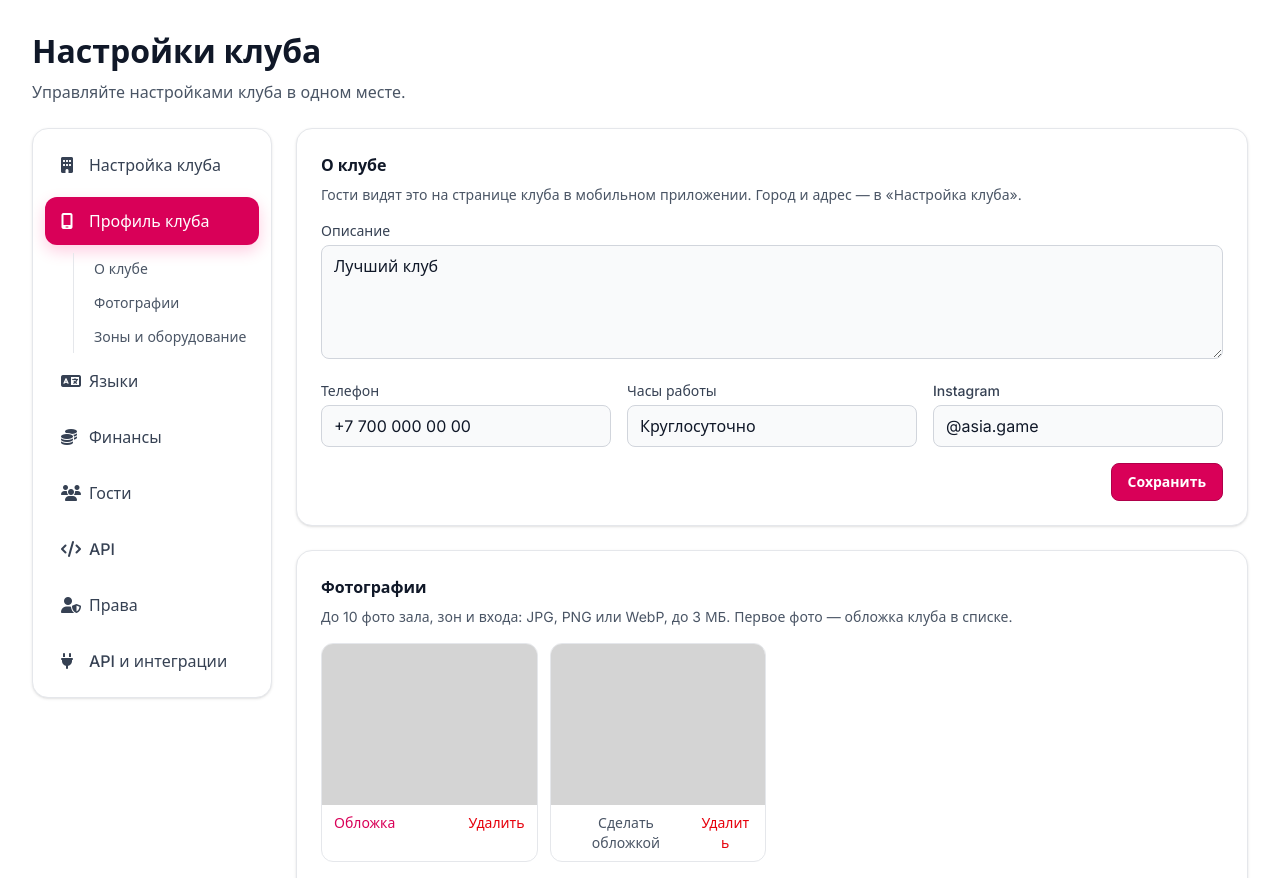
Test: Профиль клуба › о клубе: значения профиля, «@» у Instagram, сохранение формы
The width and height of the screenshot is (1280, 878).
Expected: the field with placeholder "@club" holds "@asia.game", [933, 405, 1223, 447]
Type "+7 701 111 22 33" into the field with placeholder "+7 700 000 00 00". click: (466, 426)
box: [321, 405, 611, 447]
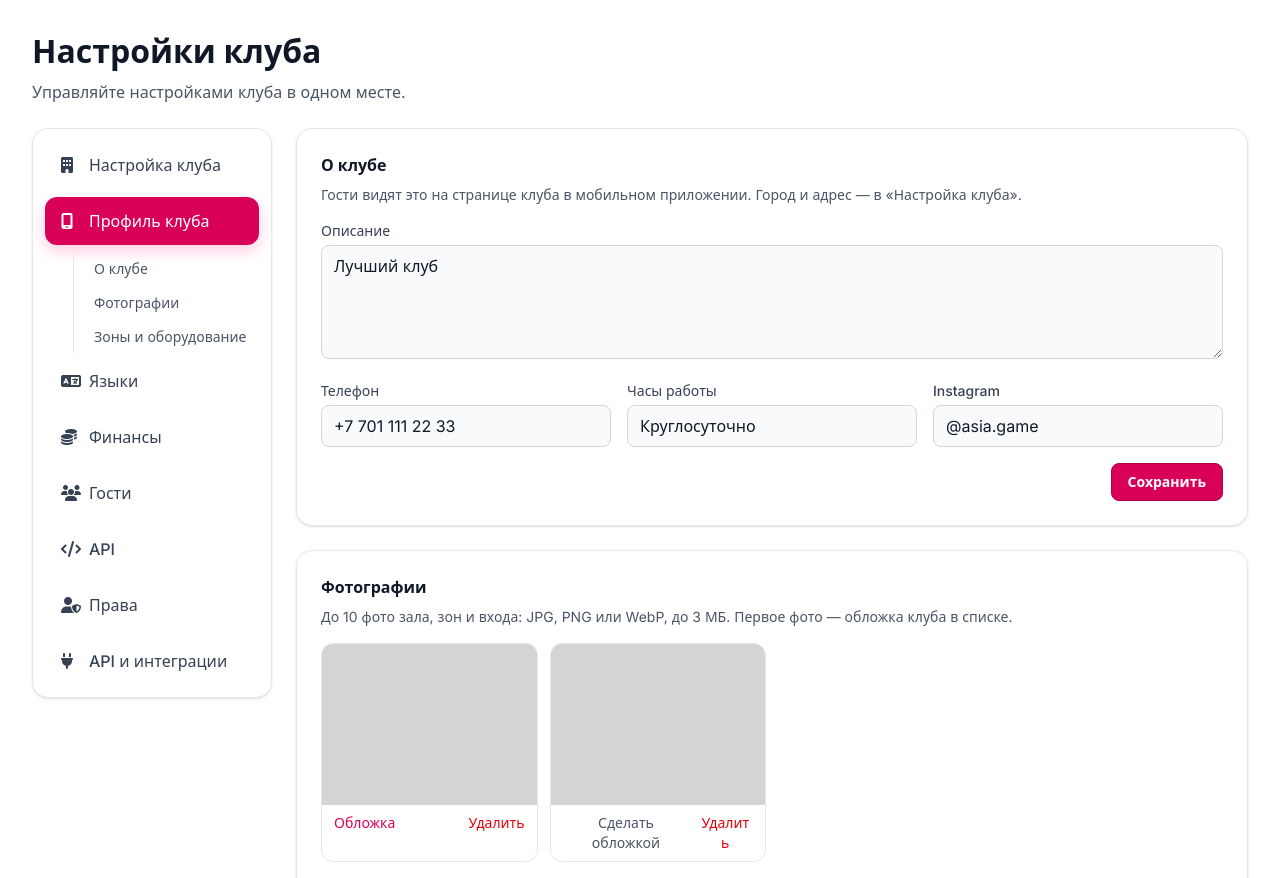
Click the button "Сохранить". click: (1167, 482)
box: [1111, 463, 1223, 501]
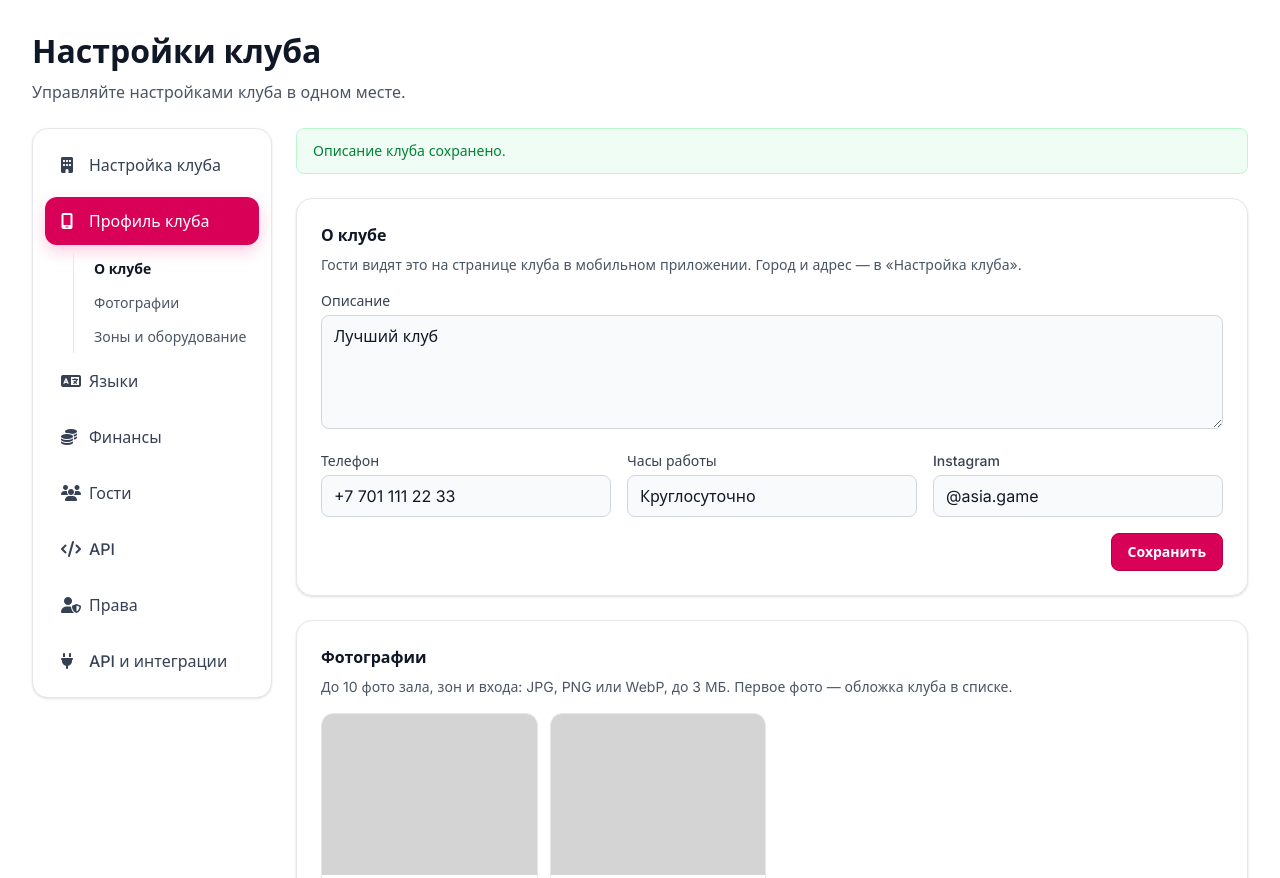
Expected: the text "Описание клуба сохранено." is shown, [296, 128, 1248, 174]
